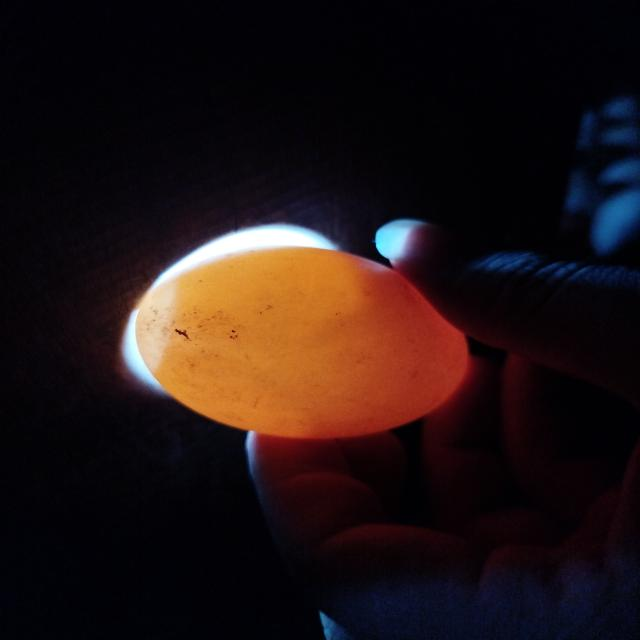Camara de Ar: (136, 279, 176, 371)
